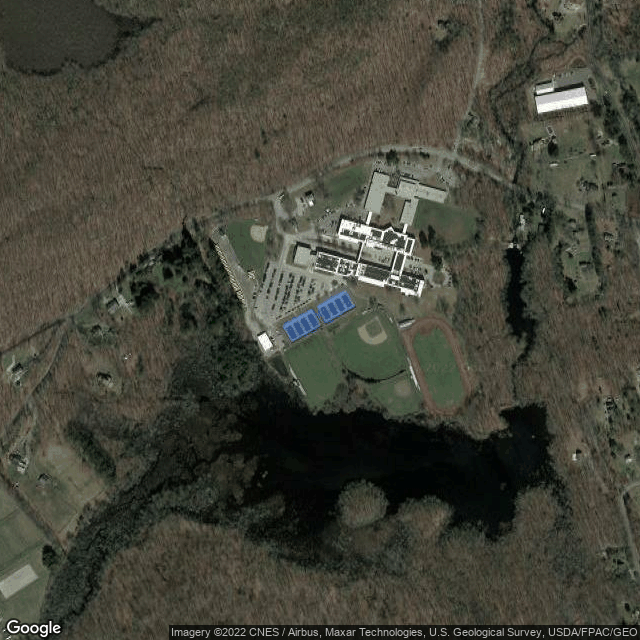Court: (333, 298, 347, 312), (300, 316, 312, 332), (307, 312, 319, 327), (286, 324, 297, 340), (340, 295, 353, 308), (319, 306, 331, 320), (327, 301, 338, 316), (293, 321, 304, 335)
